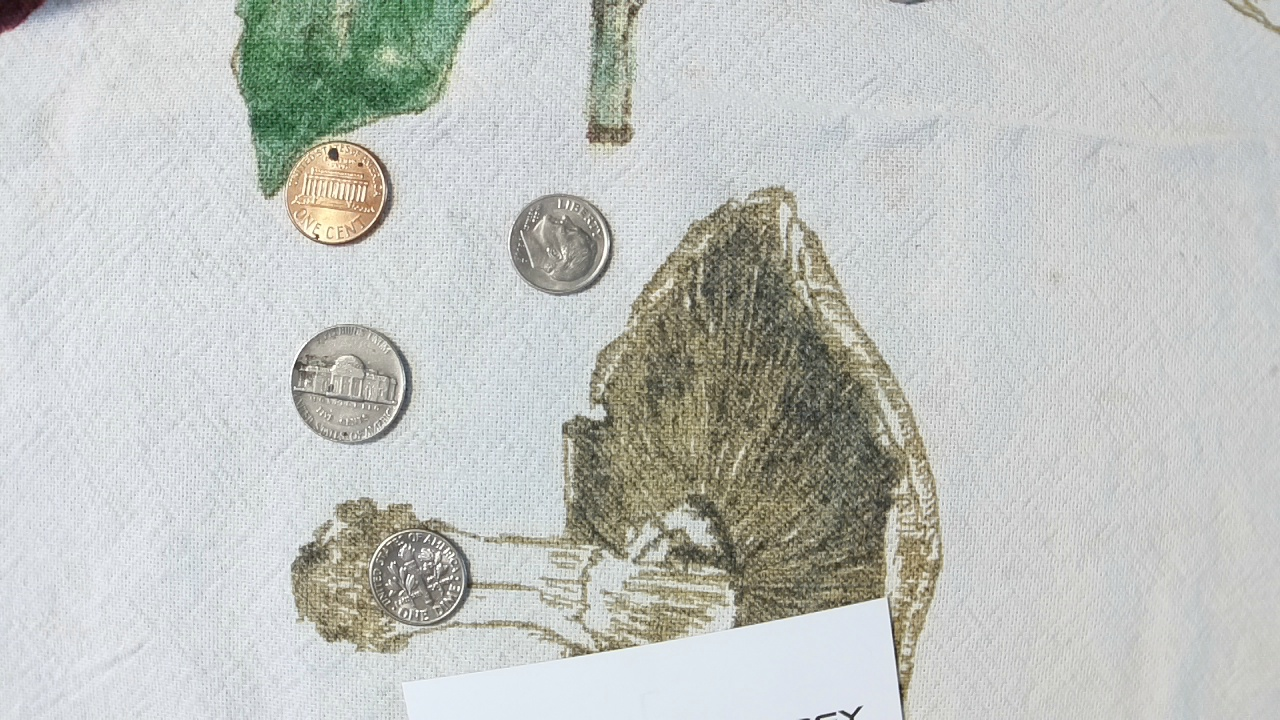dime: (506, 192, 616, 296), (366, 526, 472, 628)
nickel: (286, 322, 412, 446)
penny: (278, 137, 394, 247)
